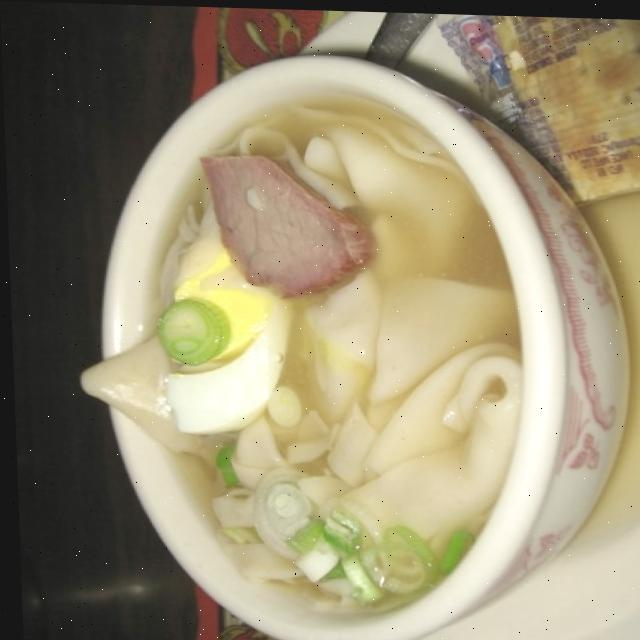汤锅炖物: (60, 53, 569, 638)
